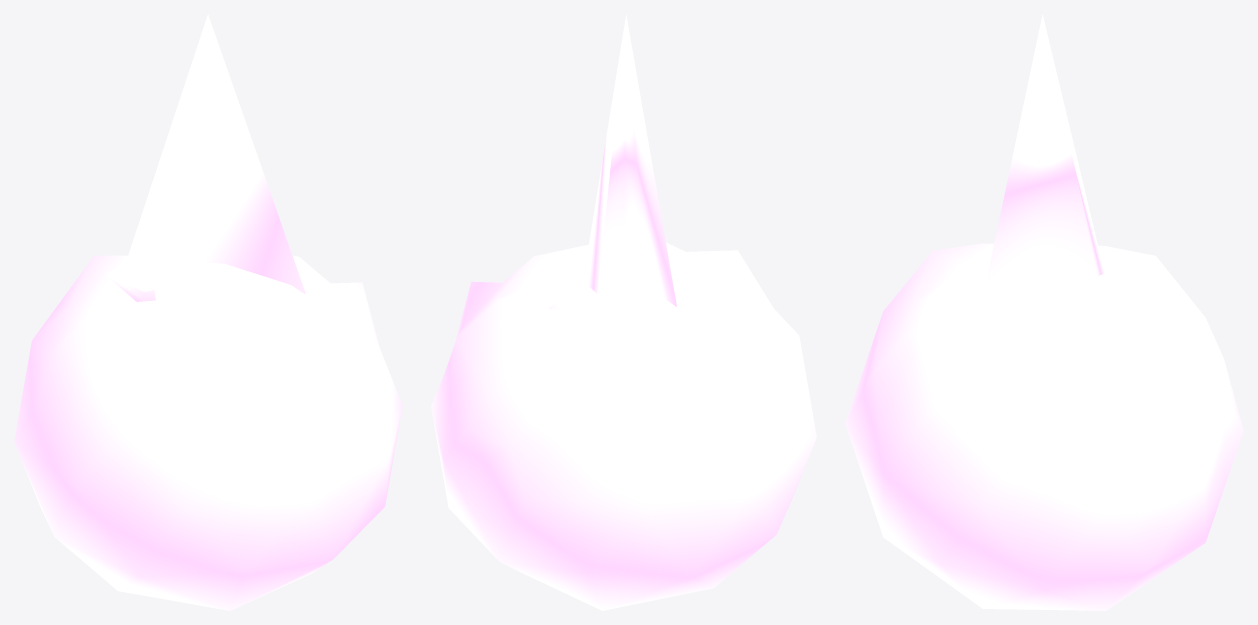
The model's file is Persisting Soul.fbx.
3 views of the same model, side by side, from view 1: azimuth 30°, elevation 25°; view 2: azimuth 150°, elevation 25°; view 3: azimuth 270°, elevation 25° (orthographic).
Parts seen in each view (by area): view 1: Llama; view 2: Llama; view 3: Llama.
Part boxes in pixels (<box>): Llama: <box>14,14,402,610</box>; Llama: <box>431,15,816,610</box>; Llama: <box>845,14,1243,610</box>.
Bounding box in the file's own units: 31.68 × 53.83 × 33.25.
